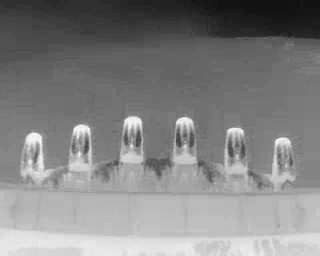claw: (17, 131, 44, 180), (223, 127, 248, 177), (174, 116, 197, 167), (69, 123, 92, 171), (121, 116, 144, 164), (272, 136, 294, 182)
